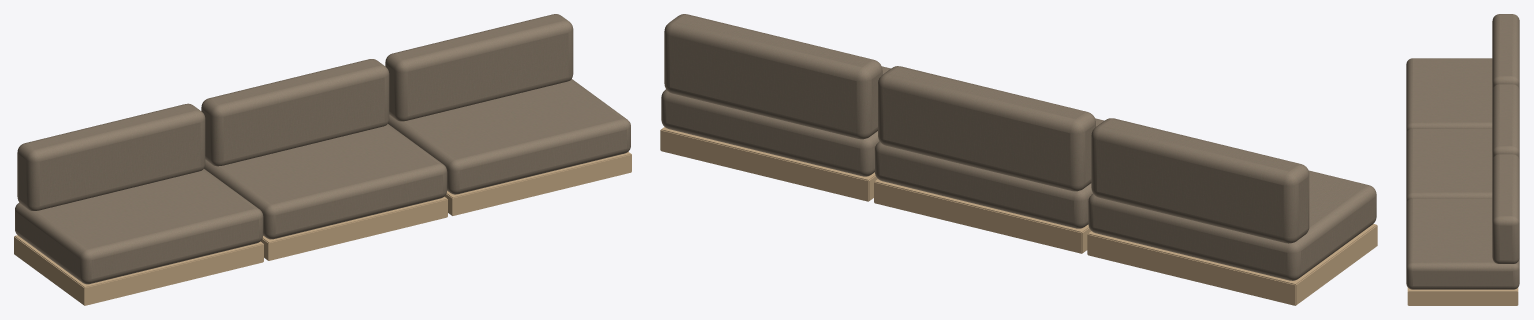
The picture shows the model from 3 angles, left to right: view 1: azimuth 30°, elevation 25°; view 2: azimuth 150°, elevation 25°; view 3: azimuth 270°, elevation 25°; orthographic projection. The views are drawn at different scales.
Parts seen in each view (by area): view 1: sf3s-101-3-seater; view 2: sf3s-101-3-seater; view 3: sf3s-101-3-seater.
Boxes of the visible parts, <box> form: sf3s-101-3-seater: <box>14,14,631,305</box>; sf3s-101-3-seater: <box>660,14,1377,305</box>; sf3s-101-3-seater: <box>1406,14,1519,305</box>.
Bounding box in the file's own units: 3.36 × 0.6501 × 0.77.
2 materials, 1 textured.
